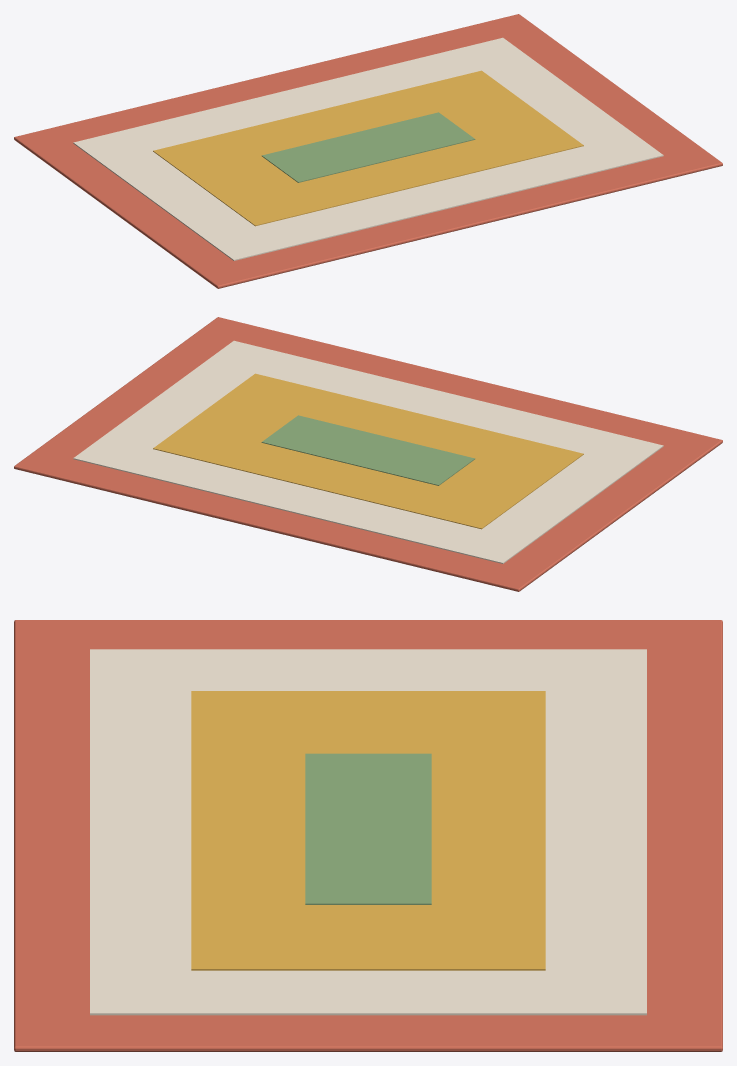
Rendered from rug.glb.
3 views of the same model, one above another, from view 1: azimuth 30°, elevation 25°; view 2: azimuth 150°, elevation 25°; view 3: azimuth 270°, elevation 25° (orthographic). The views are drawn at different scales.
Visible parts, largest first — view 1: rug; view 2: rug; view 3: rug.
Part boxes in pixels (x1,y1,x2,y2): rug: (14, 14, 722, 288); rug: (14, 317, 722, 591); rug: (14, 620, 722, 1051).
Size of the model in its own units: 2 by 0.022 by 1.4.
